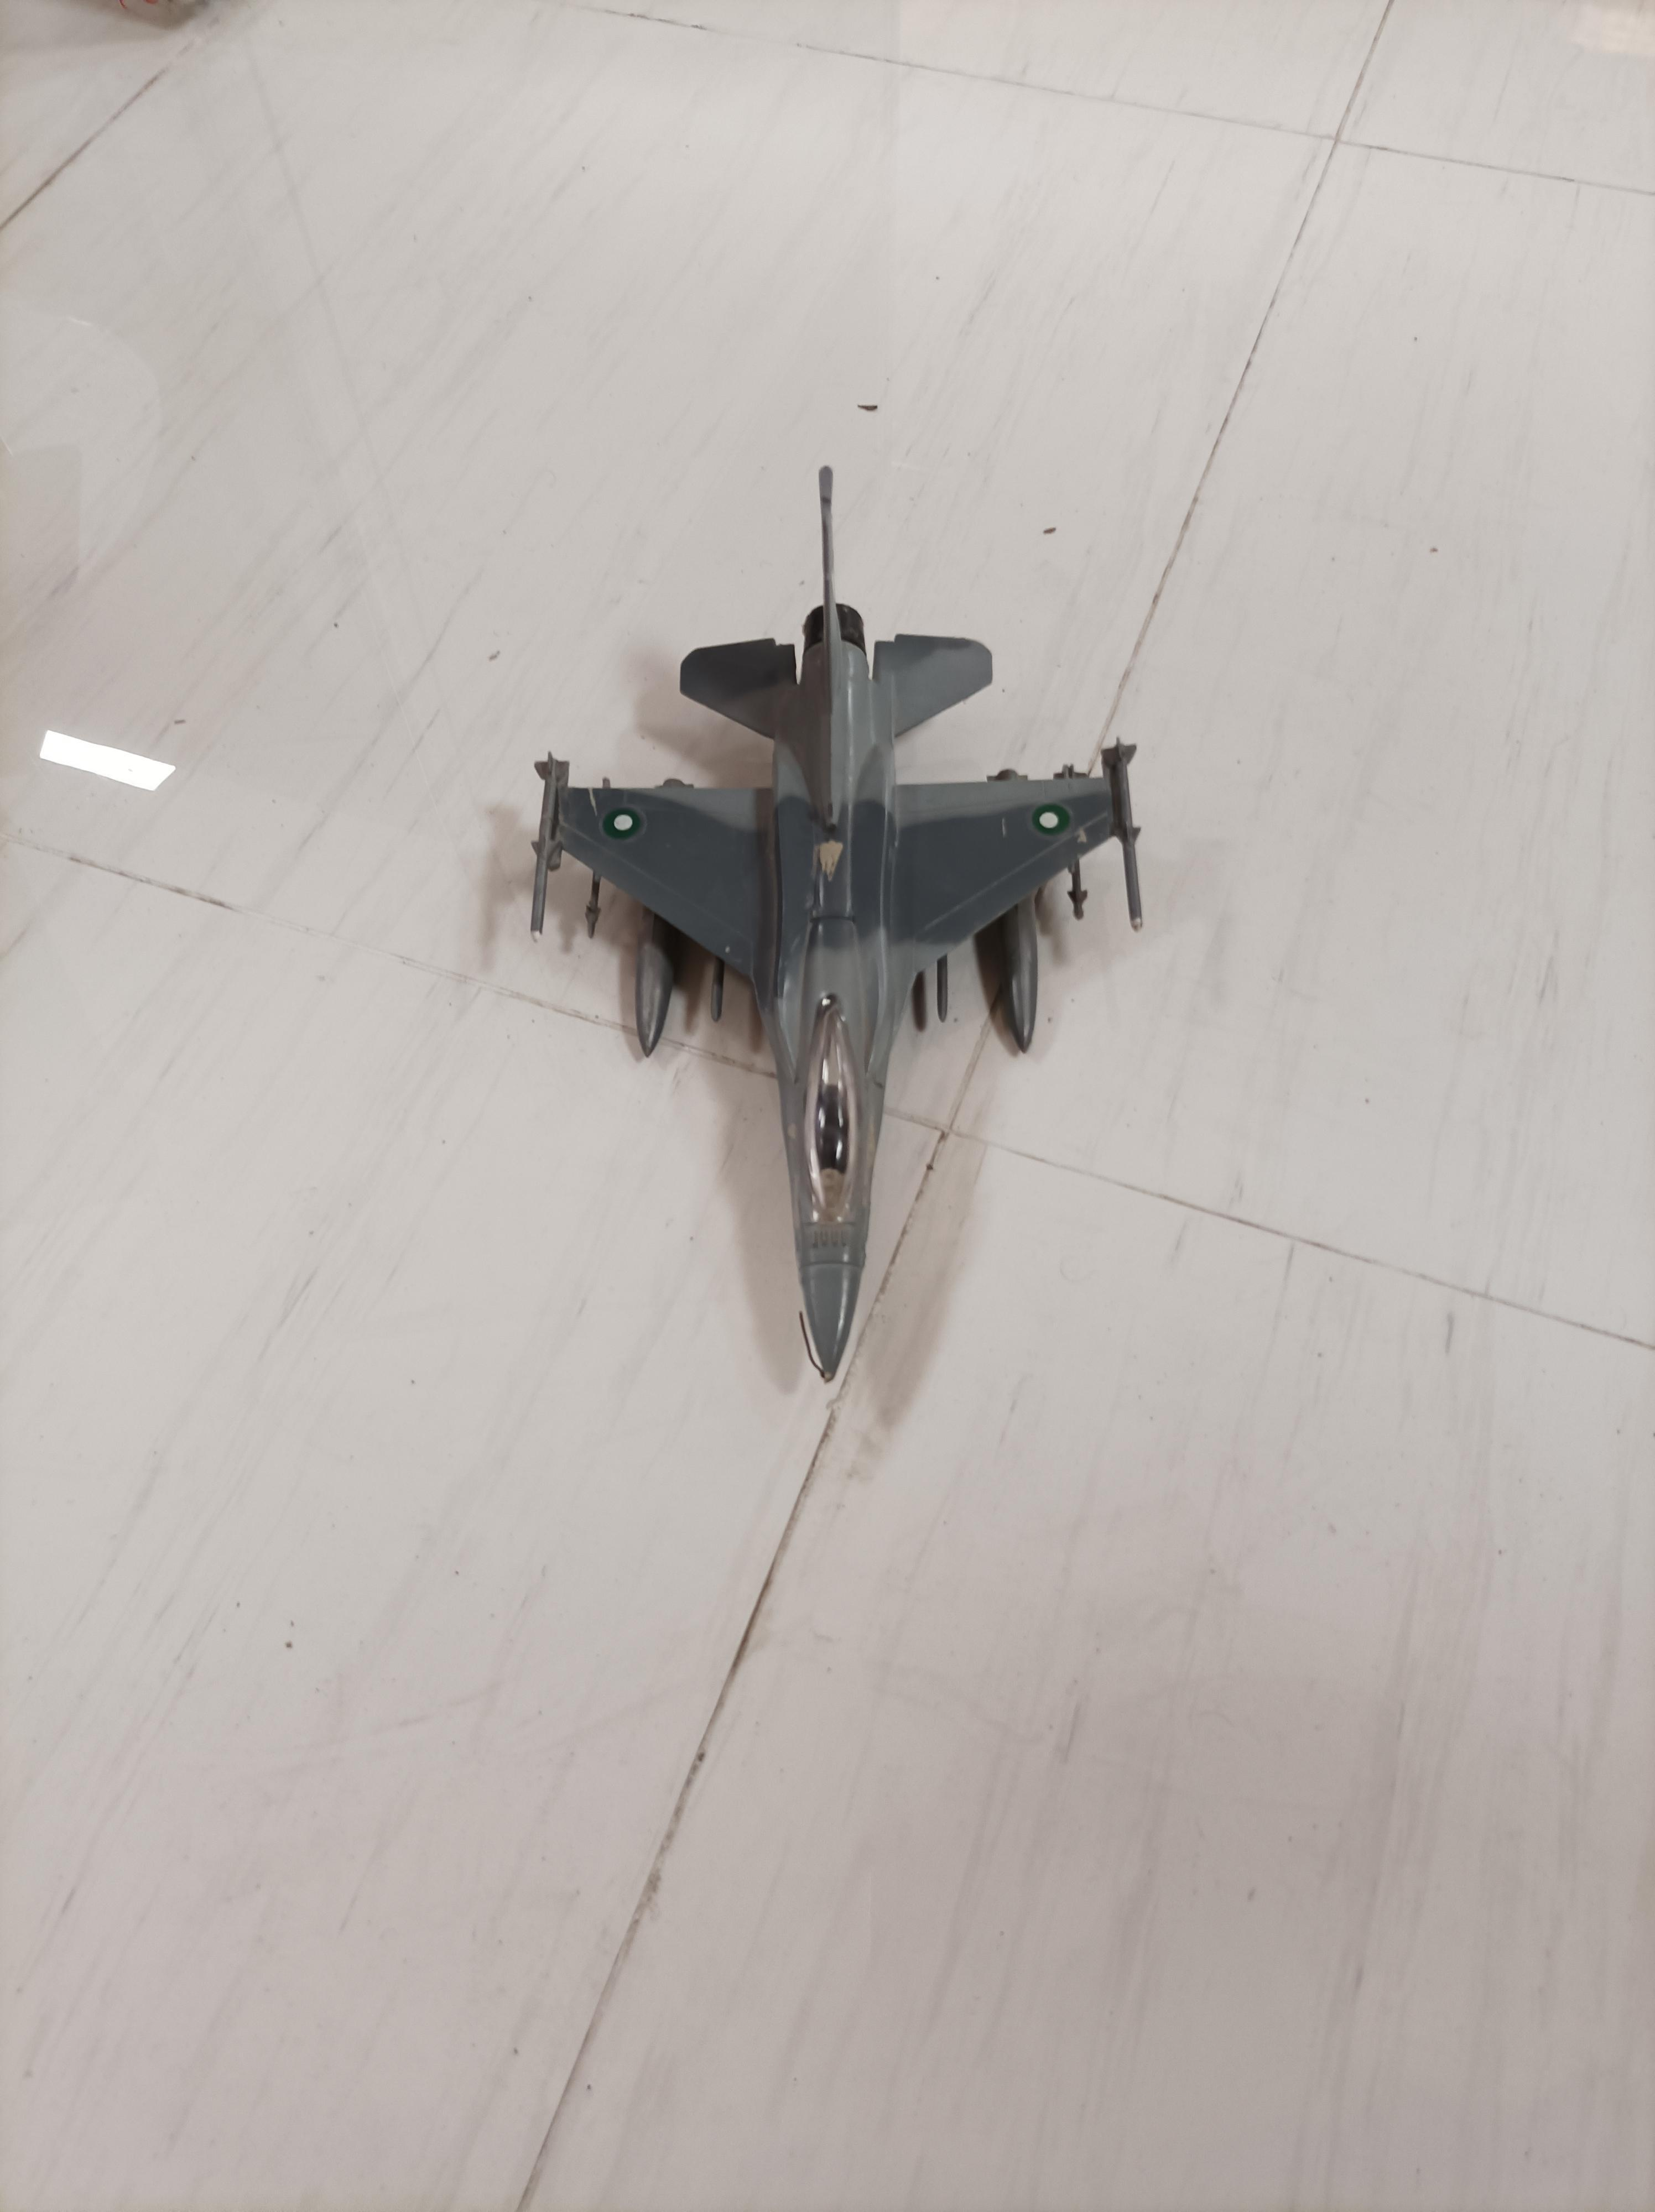Airplane: (515, 462, 1175, 1402)
